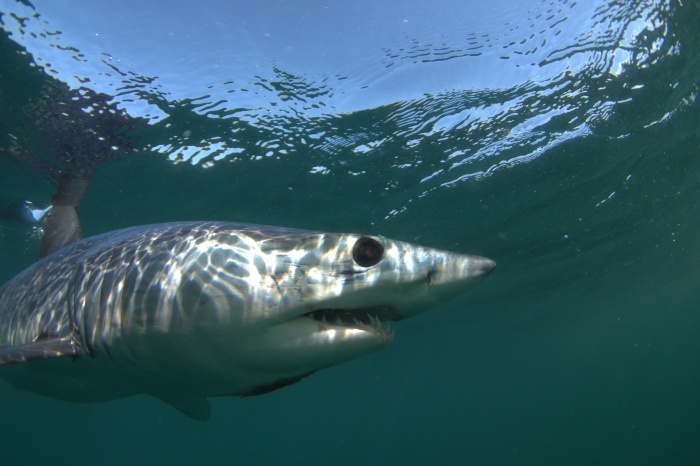Mako: (1, 191, 516, 424)
